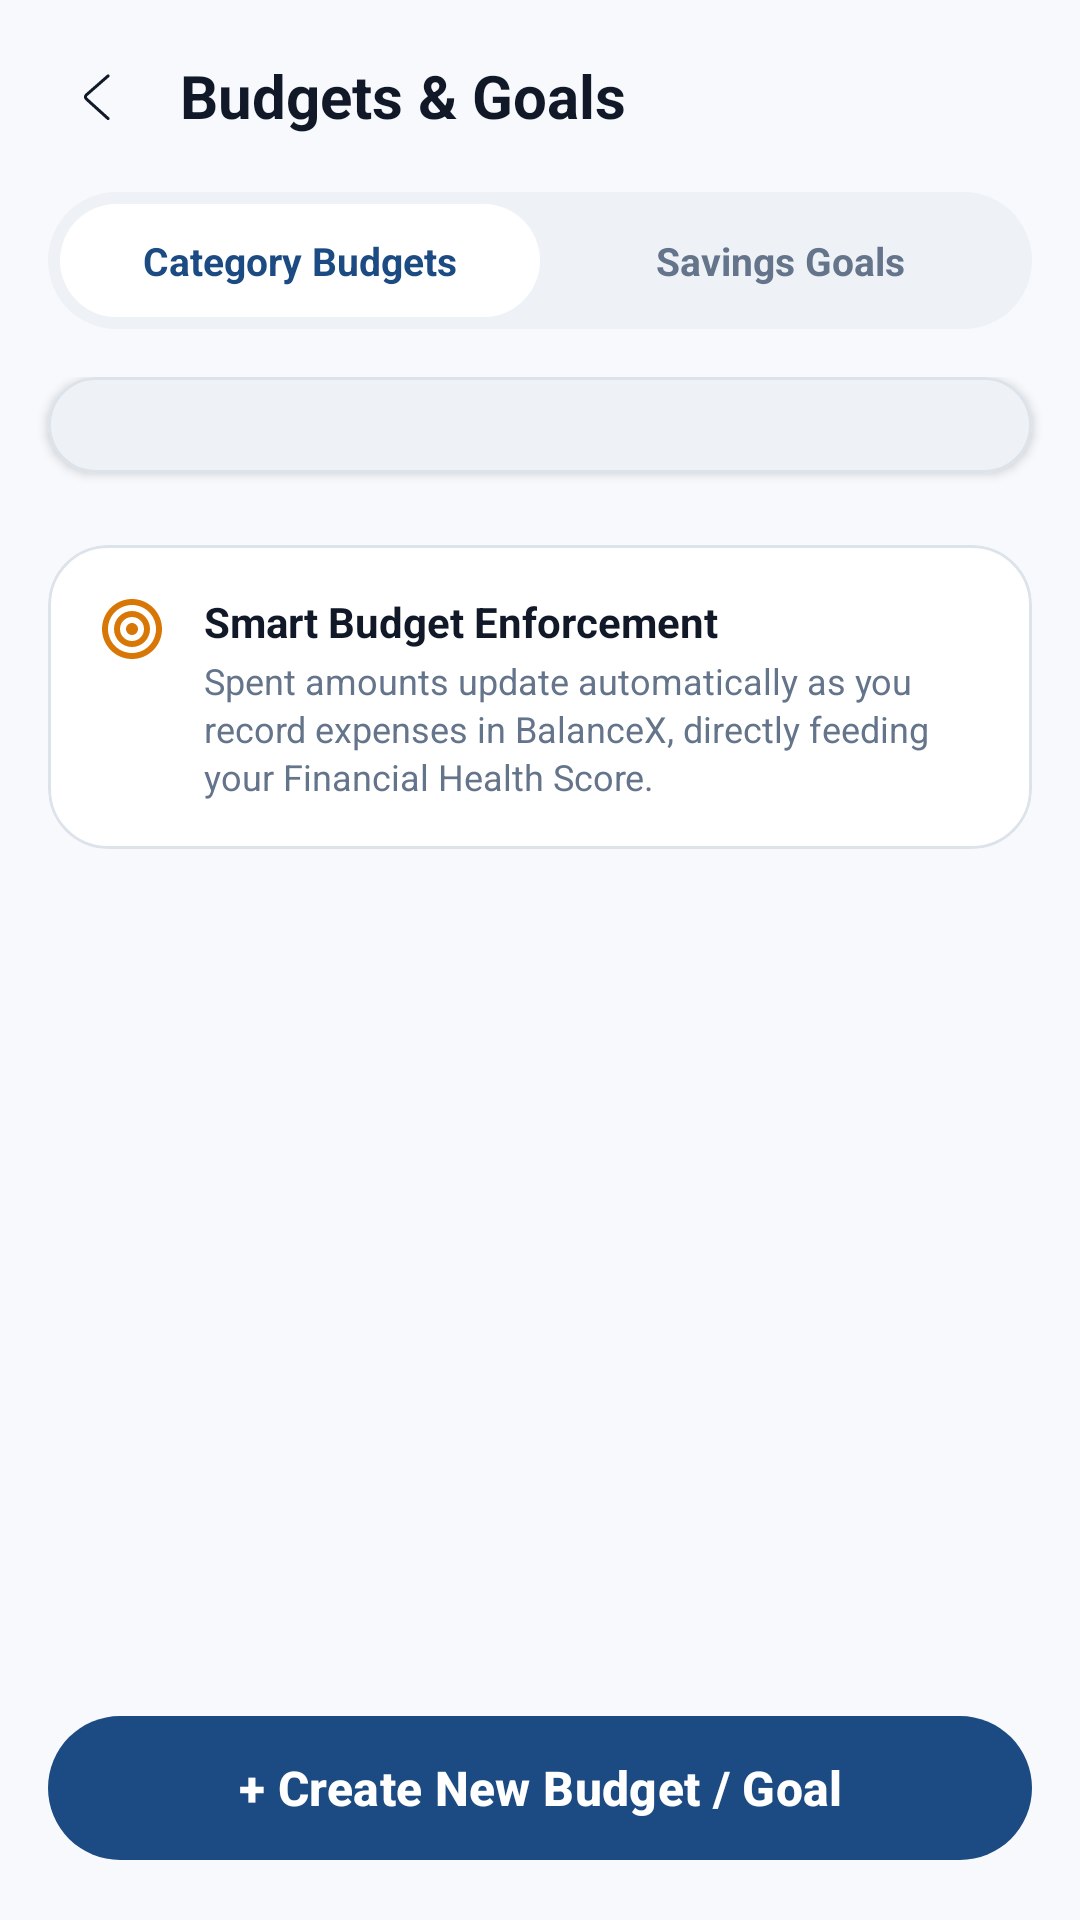

Icon click points for this 1080x1920 phone screenshot, format point (x, y):
Back: point (97, 97)
Goals icon: point (132, 629)
